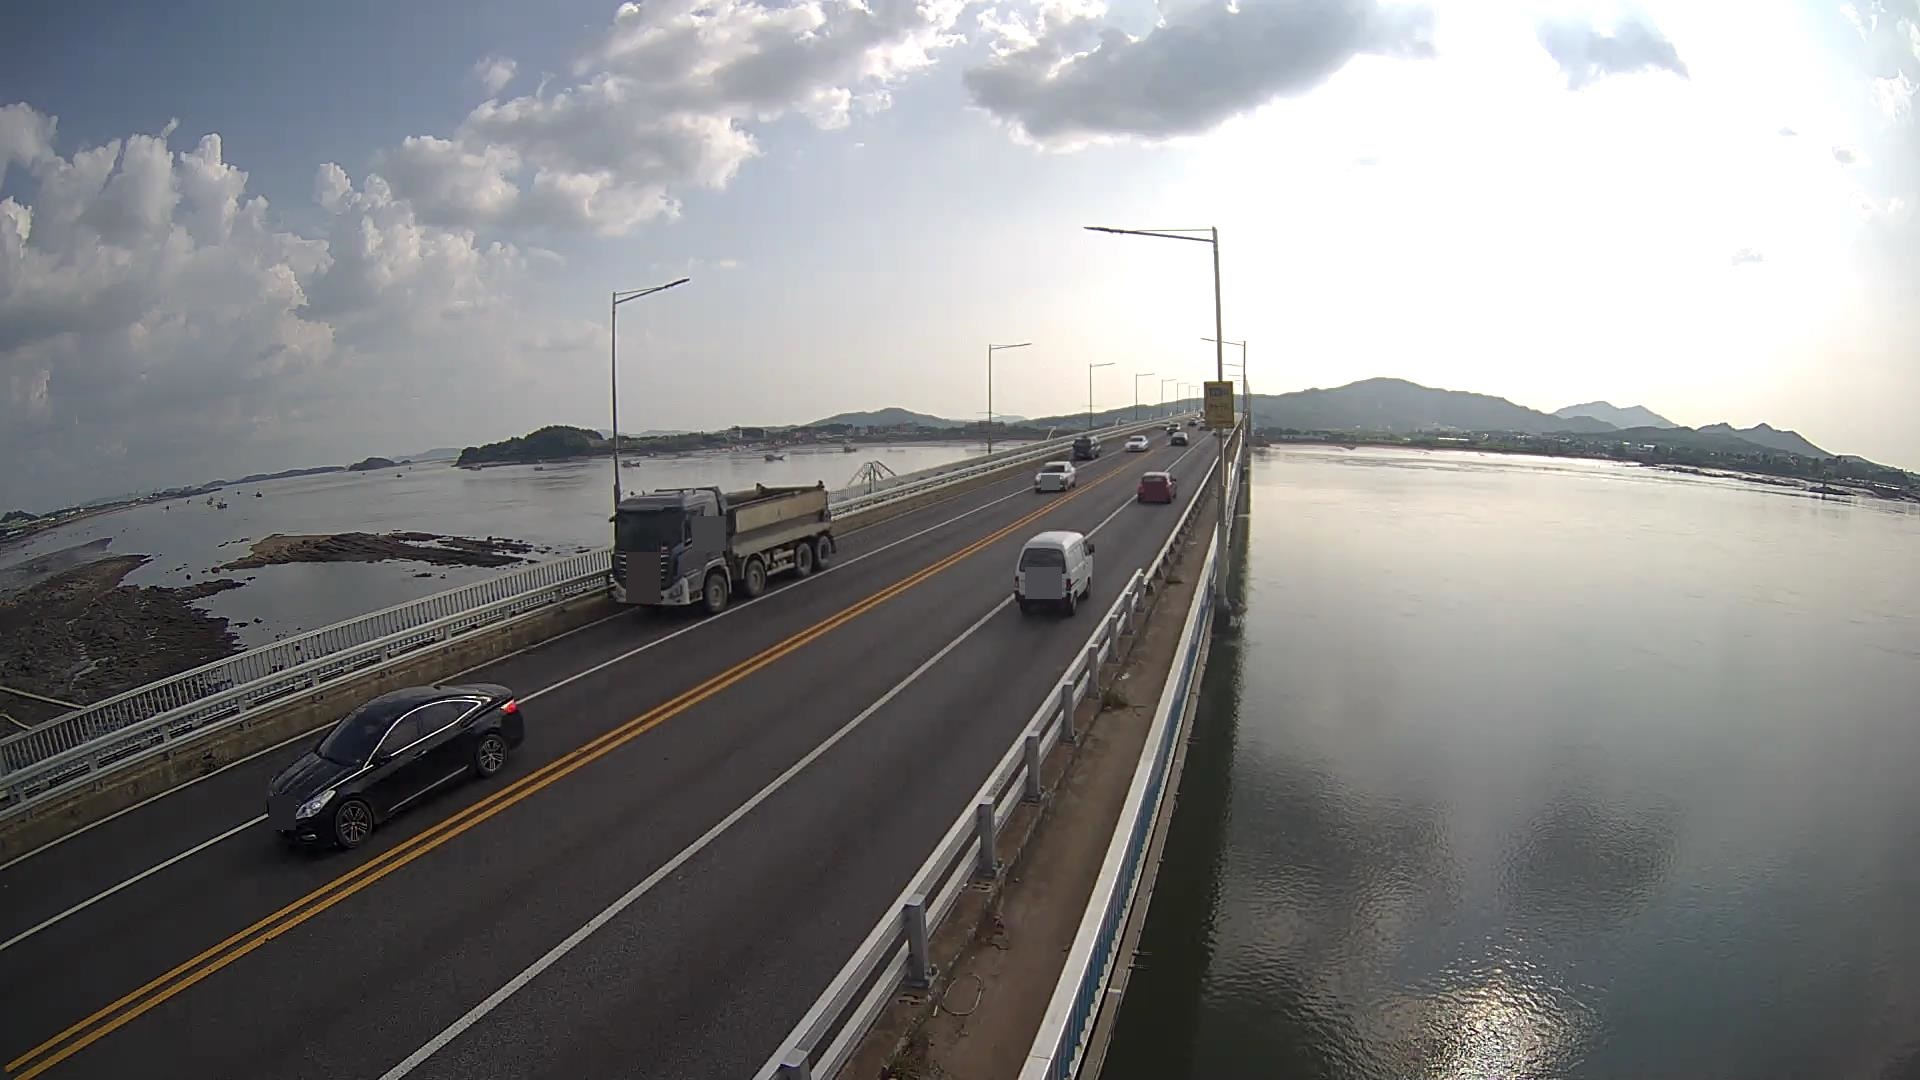정상차량: (609, 480, 837, 615)
